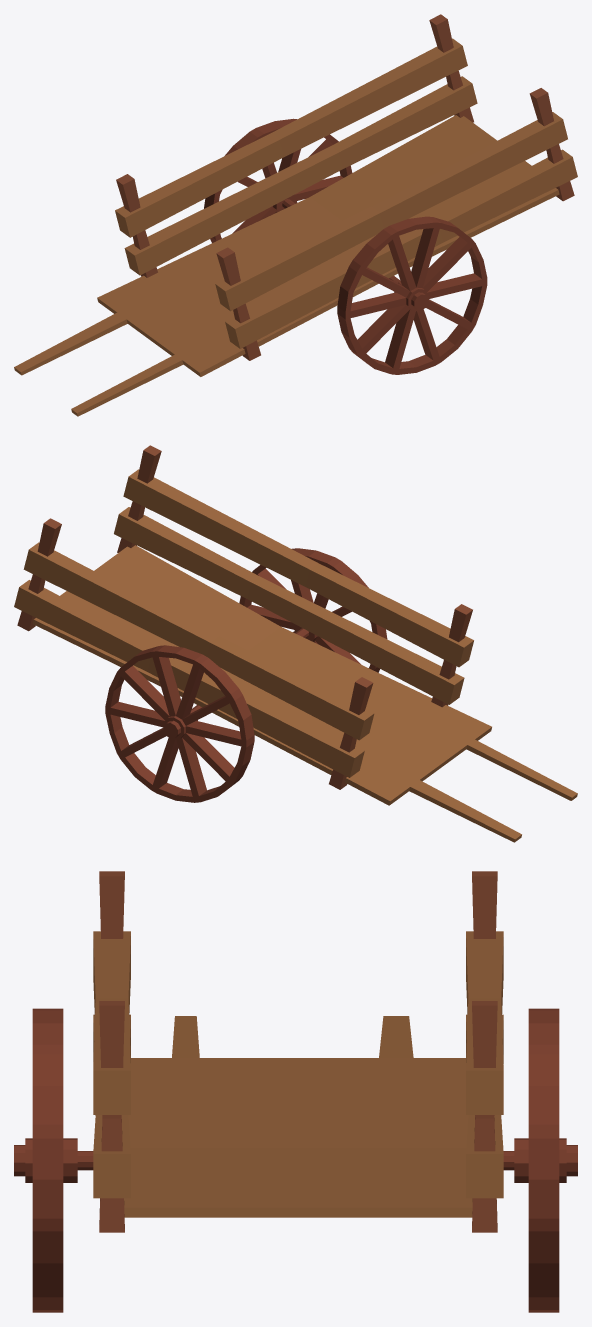
File: Wood_Car.fbx
The picture shows the model from 3 angles, top to bottom: view 1: azimuth 30°, elevation 25°; view 2: azimuth 150°, elevation 25°; view 3: azimuth 270°, elevation 25°; orthographic projection. The views are drawn at different scales.
Parts seen in each view (by area): view 1: Wood_Car; view 2: Wood_Car; view 3: Wood_Car.
Part boxes in pixels (left/top/right/bottom): Wood_Car: left=14, top=14, right=577, bottom=416; Wood_Car: left=14, top=445, right=577, bottom=842; Wood_Car: left=14, top=871, right=577, bottom=1312.
Bounding box in the file's own units: 231 × 106 × 127.
